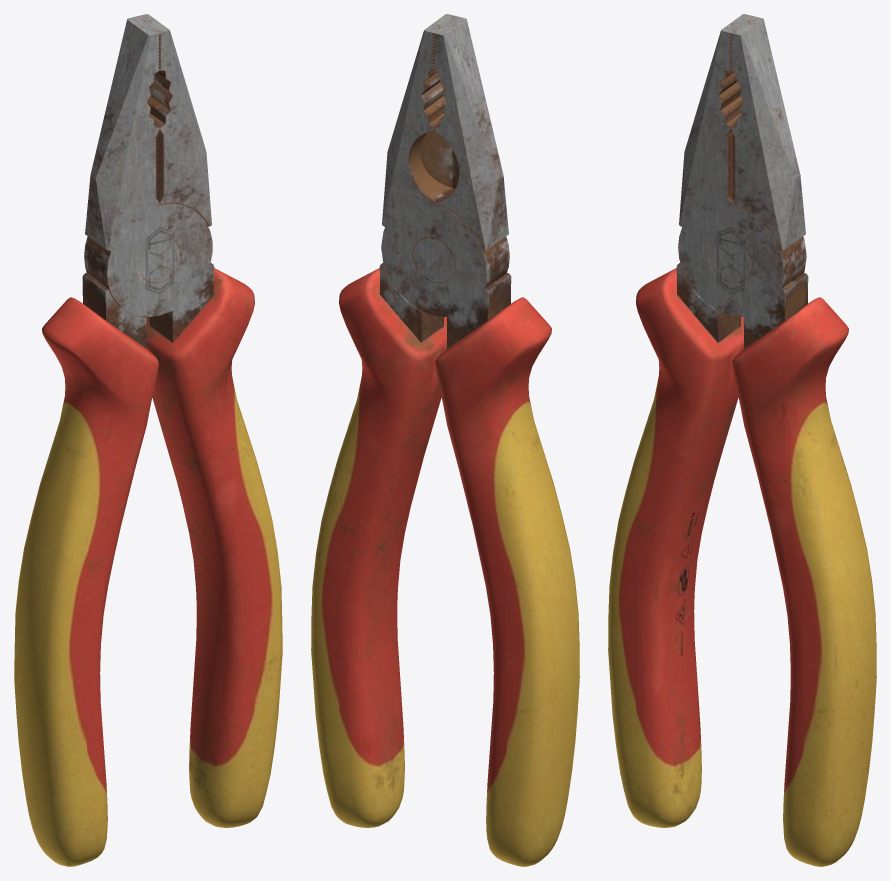
Rendered from pliers.glb.
3 renders of one model, left to right at view 1: azimuth 30°, elevation 25°; view 2: azimuth 150°, elevation 25°; view 3: azimuth 330°, elevation 25°, orthographic.
Visible parts, largest first — view 1: pliers_b, pliers_a, pliers_pin; view 2: pliers_a, pliers_b, pliers_pin; view 3: pliers_b, pliers_a, pliers_pin.
Part boxes in pixels (x1,y1,x2,y2): pliers_b: [85, 16, 282, 827]; pliers_a: [14, 14, 211, 866]; pliers_pin: [139, 237, 180, 282]; pliers_a: [381, 14, 579, 866]; pliers_b: [311, 16, 509, 827]; pliers_pin: [412, 237, 455, 282]; pliers_b: [678, 14, 876, 866]; pliers_a: [608, 16, 806, 827]; pliers_pin: [710, 237, 752, 282].
Bounding box in the file's own units: 0.0553 × 0.1798 × 0.0179.
1 material, 1 textured.
